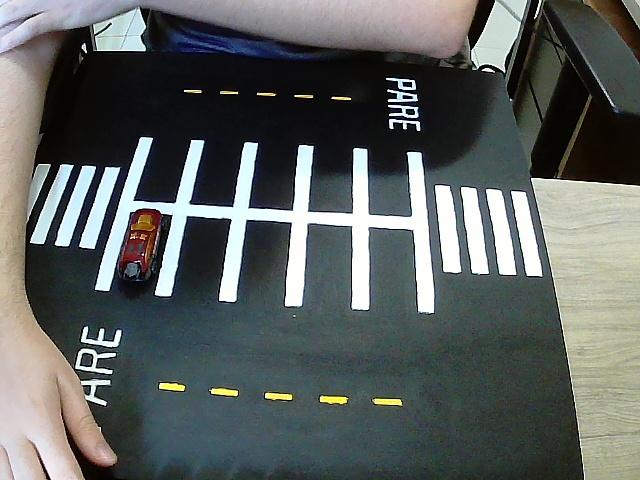Carro: (118, 209, 166, 287)
